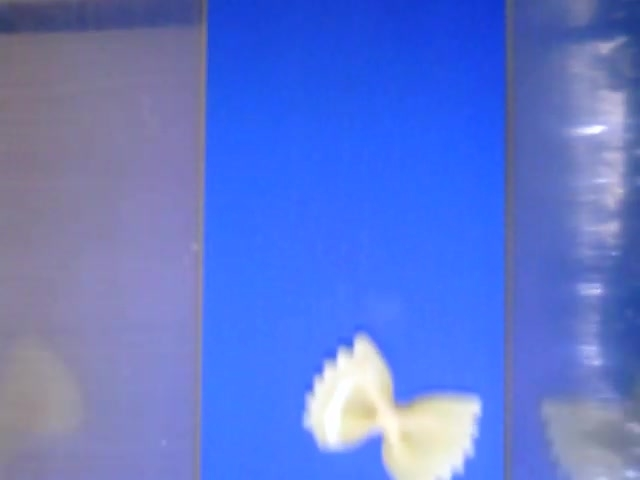farfalle: (303, 335, 480, 480)
